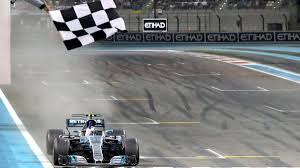FormulaOneCar: (44, 109, 142, 168)
